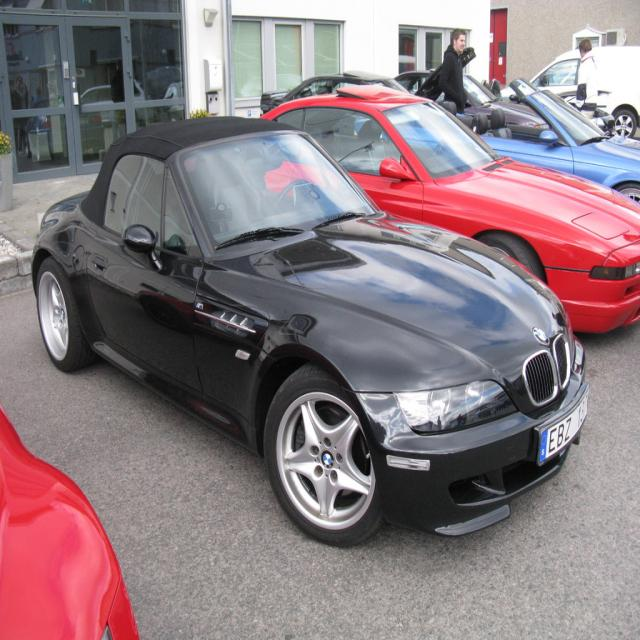car: (21, 102, 560, 552)
